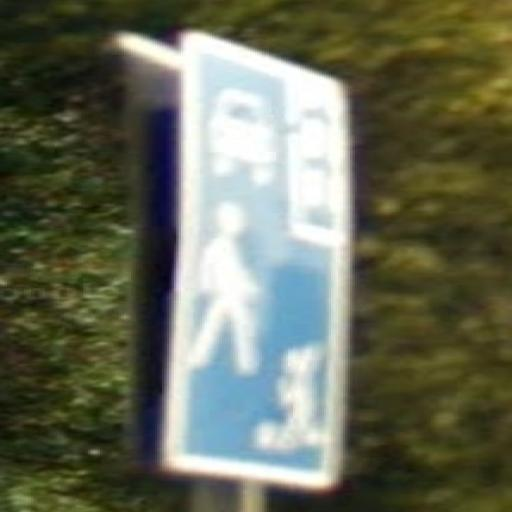traffic_sign: (160, 32, 356, 495)
